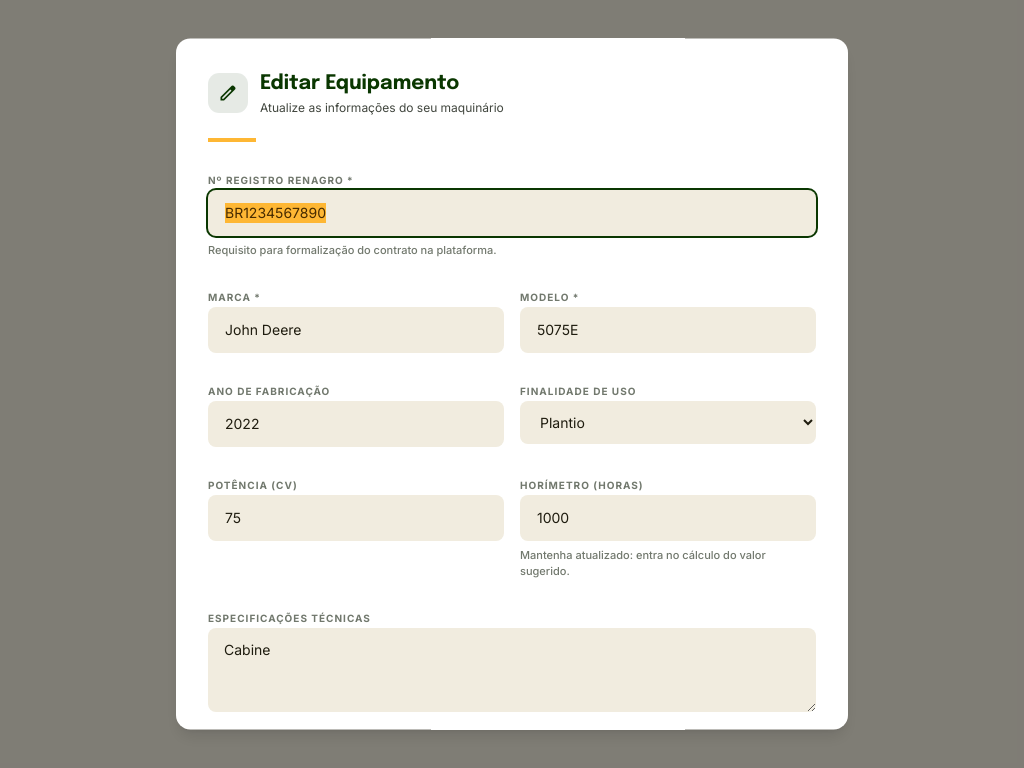
Test: validating machine edits › flags Modelo * on blur and clears the error once fixed
The width and height of the screenshot is (1024, 768).
Step 1. Clear the field labelled "Modelo *" → (668, 330), box [520, 307, 816, 353]
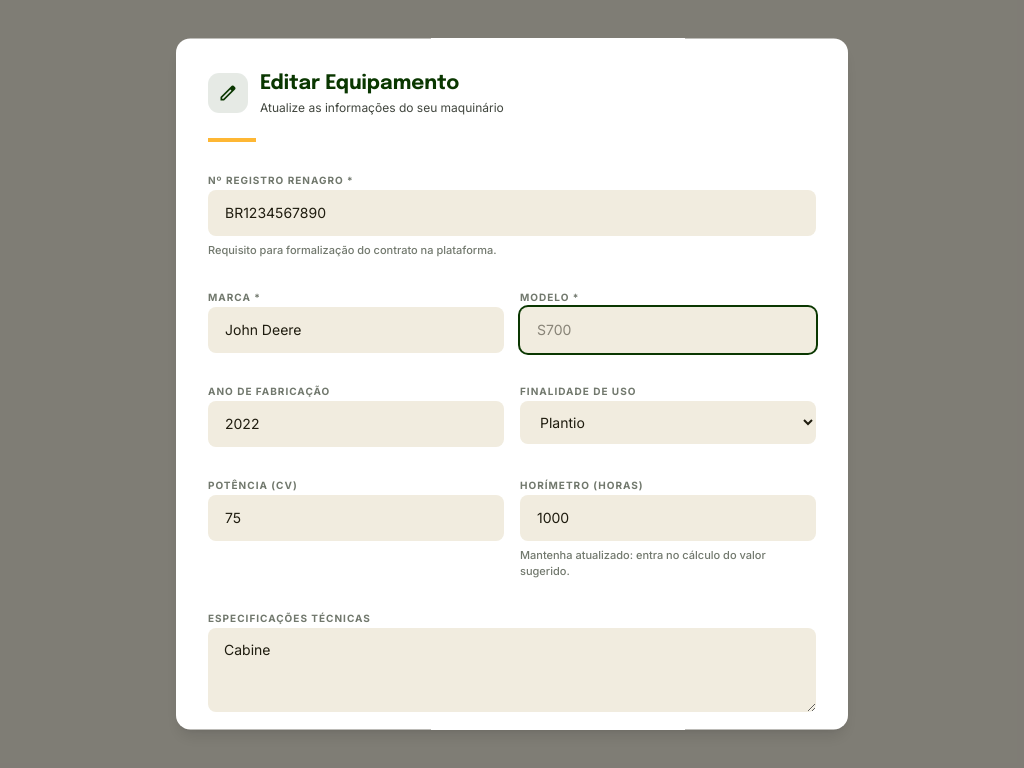
Step 2. Press Tab
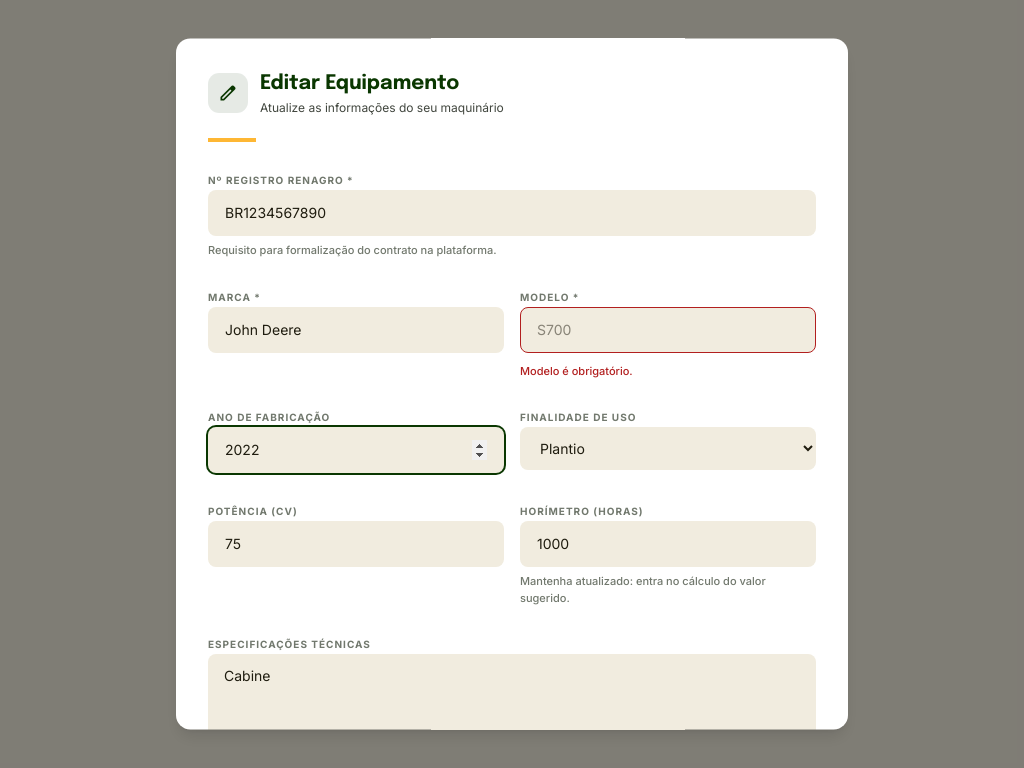
Expected: the text "Modelo é obrigatório." is shown, [520, 364, 633, 378]
Step 3. Type "5075E" into the field labelled "Modelo *" → (668, 330), box [520, 307, 816, 353]
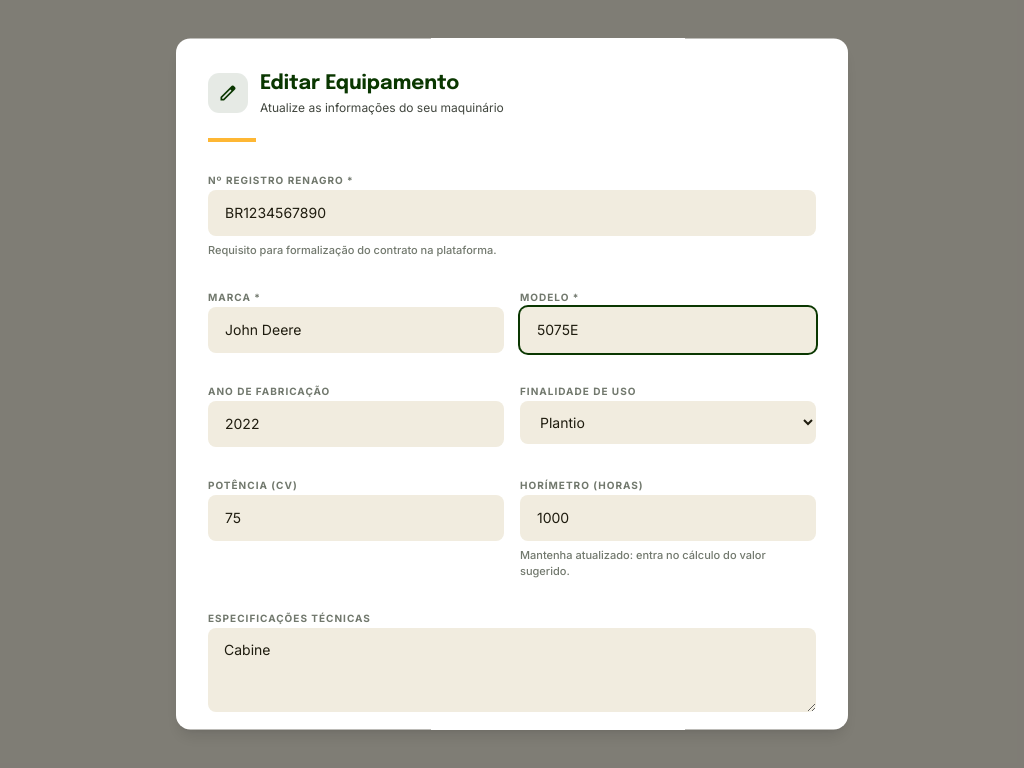
Expected: the text "Modelo é obrigatório." is gone
